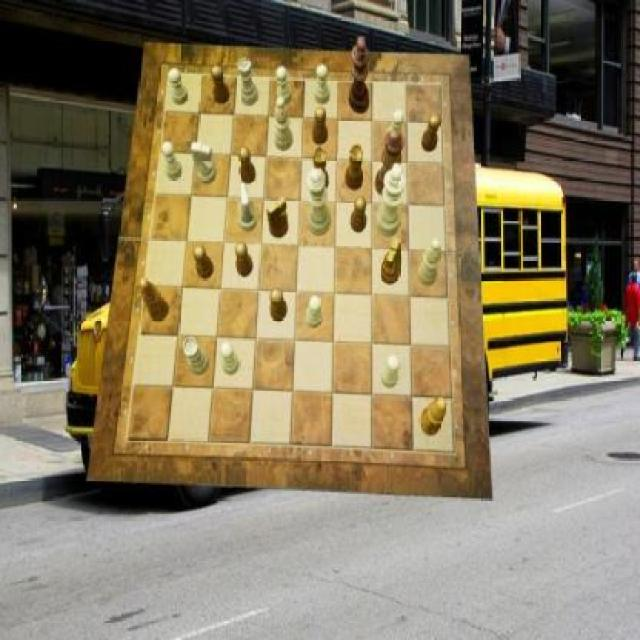bishop: (140, 278, 171, 322), (420, 397, 447, 435)
black-bishop: (349, 35, 370, 114)
black-king: (266, 195, 289, 238), (382, 237, 402, 285)
black-knight: (422, 114, 442, 152), (211, 66, 230, 105), (194, 245, 214, 279), (235, 242, 253, 278), (350, 196, 368, 232), (239, 148, 256, 184), (312, 108, 328, 146), (271, 288, 288, 322)
black-pawn: (376, 130, 406, 198)
black-queen: (310, 148, 328, 193), (345, 144, 362, 190)
black-rook: (418, 239, 442, 286), (274, 97, 293, 151)
white-bishop: (376, 163, 406, 237)
white-king: (192, 141, 217, 184), (238, 183, 258, 232)
white-knight: (163, 142, 183, 180), (169, 68, 189, 105), (386, 110, 406, 146), (380, 356, 400, 390), (220, 342, 239, 376), (315, 64, 331, 104), (276, 66, 292, 105), (306, 296, 323, 330)
white-pawn: (308, 169, 332, 237)
white-queen: (183, 337, 209, 375), (238, 59, 258, 106)
